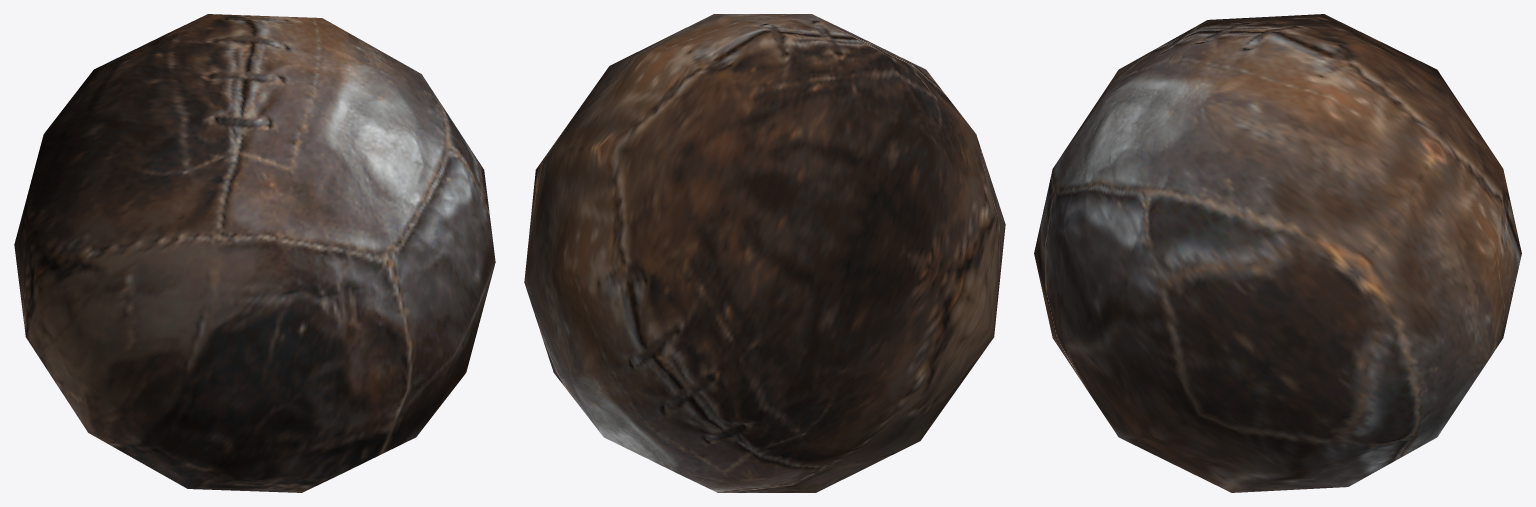
The model's file is balon_viejo_004.FBX.
The picture shows the model from 3 angles, left to right: view 1: azimuth 30°, elevation 25°; view 2: azimuth 150°, elevation 25°; view 3: azimuth 270°, elevation 25°; orthographic projection.
Visible parts, largest first — view 1: balon_viejo_004; view 2: balon_viejo_004; view 3: balon_viejo_004.
Boxes of the visible parts, x1,y1,x2,y2 form: balon_viejo_004: [14, 14, 495, 492]; balon_viejo_004: [524, 14, 1005, 492]; balon_viejo_004: [1034, 14, 1521, 492].
Bounding box in the file's own units: 26.98 × 26.98 × 26.98.
